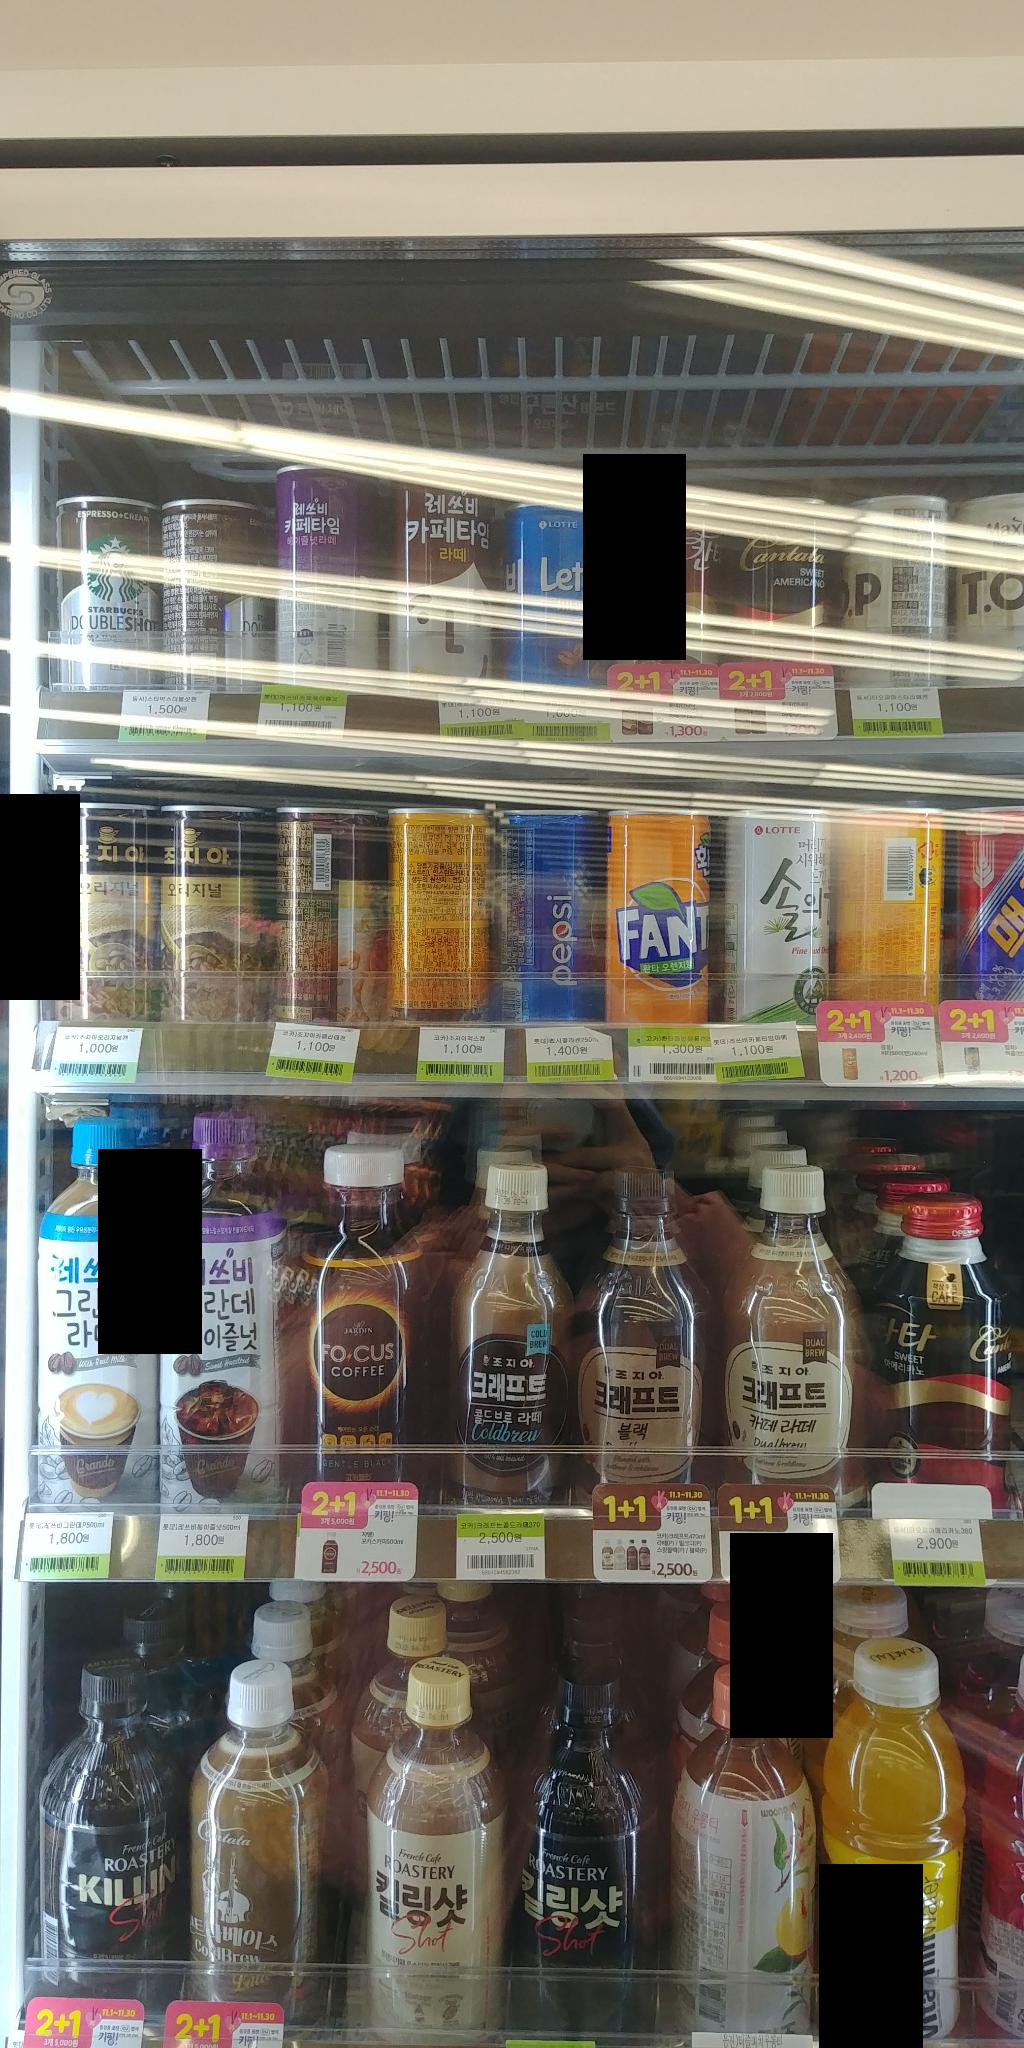georgiacraft_black: (577, 1159, 711, 1515)
letsbe: (492, 485, 626, 725)
letsbe_grande_hazelnut: (158, 1095, 306, 1515)
